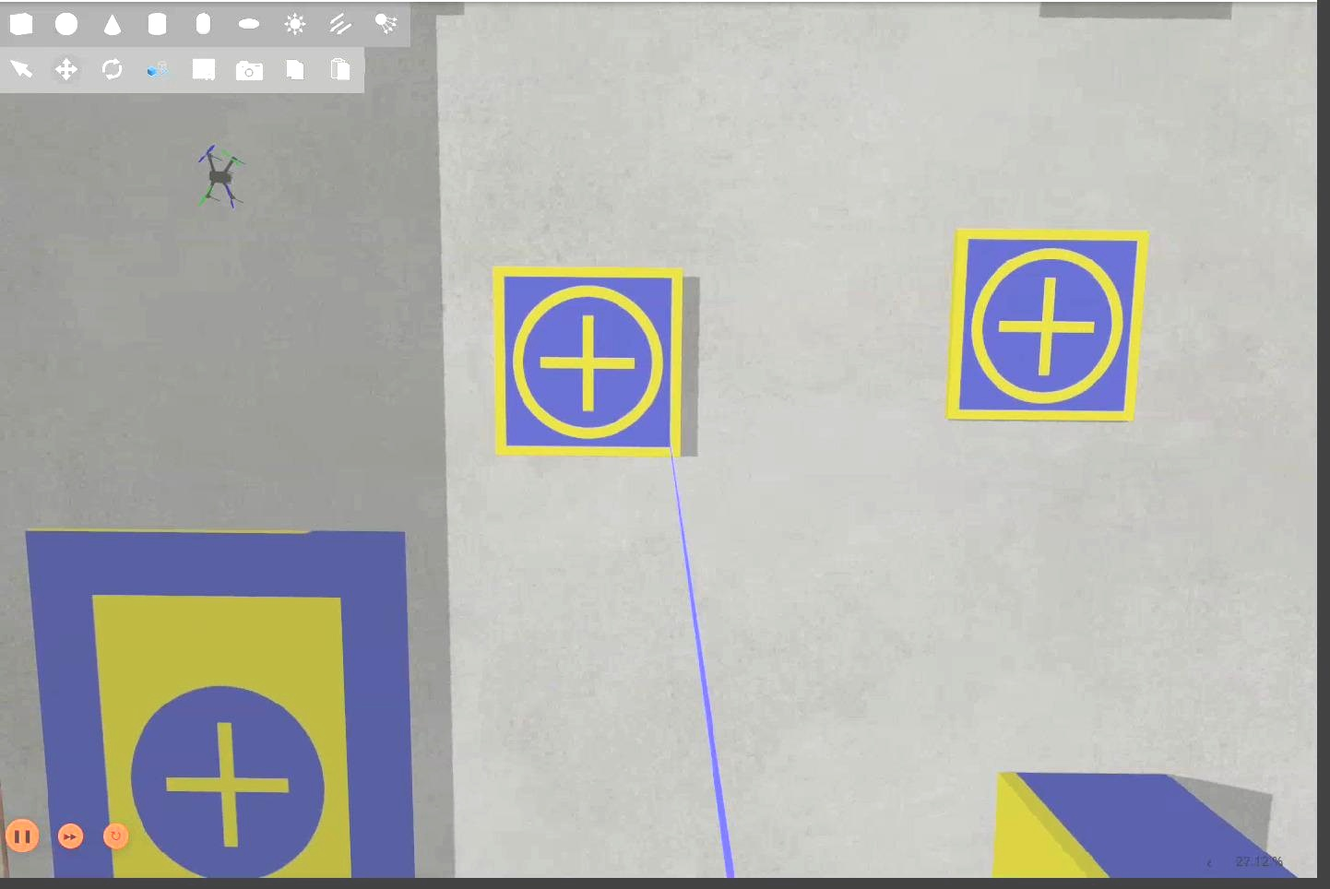large_base: (25, 527, 421, 883)
small_base: (948, 231, 1152, 428), (493, 266, 686, 462)
